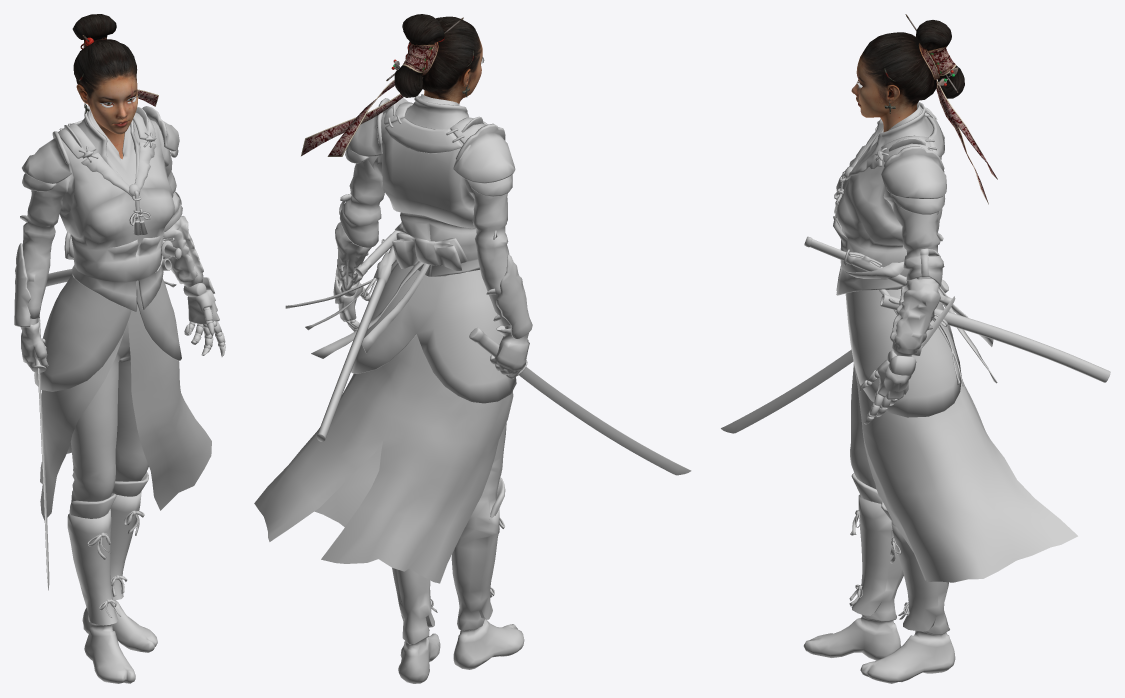
The picture shows the model from 3 angles, left to right: view 1: azimuth 30°, elevation 25°; view 2: azimuth 150°, elevation 25°; view 3: azimuth 270°, elevation 25°; orthographic projection. The views are drawn at different scales.
Parts seen in each view (by area): view 1: polySurface527, polySurface505, polySurface492, polySurface426_MatHead_0, polySurface525, polySurface399, polySurface522, polySurface526, polySurface519, polySurface407, polySurface523; view 2: polySurface492, polySurface527, polySurface505, polySurface426_MatHead_0, polySurface522, polySurface523, polySurface407, polySurface399, polySurface525, polySurface519, polySurface526, polySurface462_MatHead_0 (+1 smaller); view 3: polySurface492, polySurface527, polySurface505, polySurface426_MatHead_0, polySurface525, polySurface522, polySurface523, polySurface526, polySurface399, polySurface407, polySurface408_MatBody_0, polySurface461_MatHead_0.
Part boxes in pixels (bbox=[...]): polySurface527: bbox=[14, 105, 182, 391]; polySurface505: bbox=[67, 322, 148, 683]; polySurface492: bbox=[40, 299, 211, 520]; polySurface426_MatHead_0: bbox=[72, 14, 137, 159]; polySurface525: bbox=[163, 216, 225, 356]; polySurface399: bbox=[58, 107, 156, 235]; polySurface522: bbox=[22, 106, 179, 191]; polySurface526: bbox=[82, 600, 157, 652]; polySurface519: bbox=[20, 318, 48, 369]; polySurface407: bbox=[32, 317, 49, 590]; polySurface523: bbox=[46, 256, 176, 287]; polySurface492: bbox=[254, 335, 513, 583]; polySurface527: bbox=[311, 94, 532, 403]; polySurface505: bbox=[392, 422, 524, 669]; polySurface426_MatHead_0: bbox=[386, 14, 482, 104]; polySurface522: bbox=[345, 98, 515, 196]; polySurface523: bbox=[285, 239, 396, 441]; polySurface407: bbox=[469, 327, 691, 475]; polySurface399: bbox=[384, 98, 487, 153]; polySurface525: bbox=[333, 222, 371, 331]; polySurface519: bbox=[490, 325, 529, 378]; polySurface526: bbox=[398, 633, 440, 683]; polySurface462_MatHead_0: bbox=[301, 77, 422, 156]; polySurface492: bbox=[853, 363, 1077, 582]; polySurface527: bbox=[833, 102, 997, 417]; polySurface505: bbox=[803, 364, 949, 660]; polySurface426_MatHead_0: bbox=[851, 14, 964, 131]; polySurface525: bbox=[859, 277, 955, 424]; polySurface522: bbox=[880, 107, 946, 214]; polySurface523: bbox=[880, 294, 1110, 386]; polySurface526: bbox=[860, 634, 955, 683]; polySurface399: bbox=[834, 111, 944, 218]; polySurface407: bbox=[721, 279, 948, 433]; polySurface408_MatBody_0: bbox=[846, 252, 951, 306]; polySurface461_MatHead_0: bbox=[936, 79, 997, 179].
Bounding box in the file's own units: 13.71 × 28.79 × 15.76.
